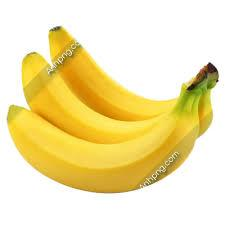banana: (6, 25, 218, 193)
